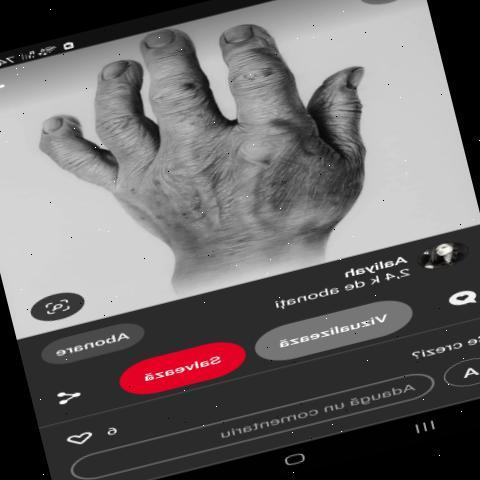Hands: (11, 0, 391, 293)
